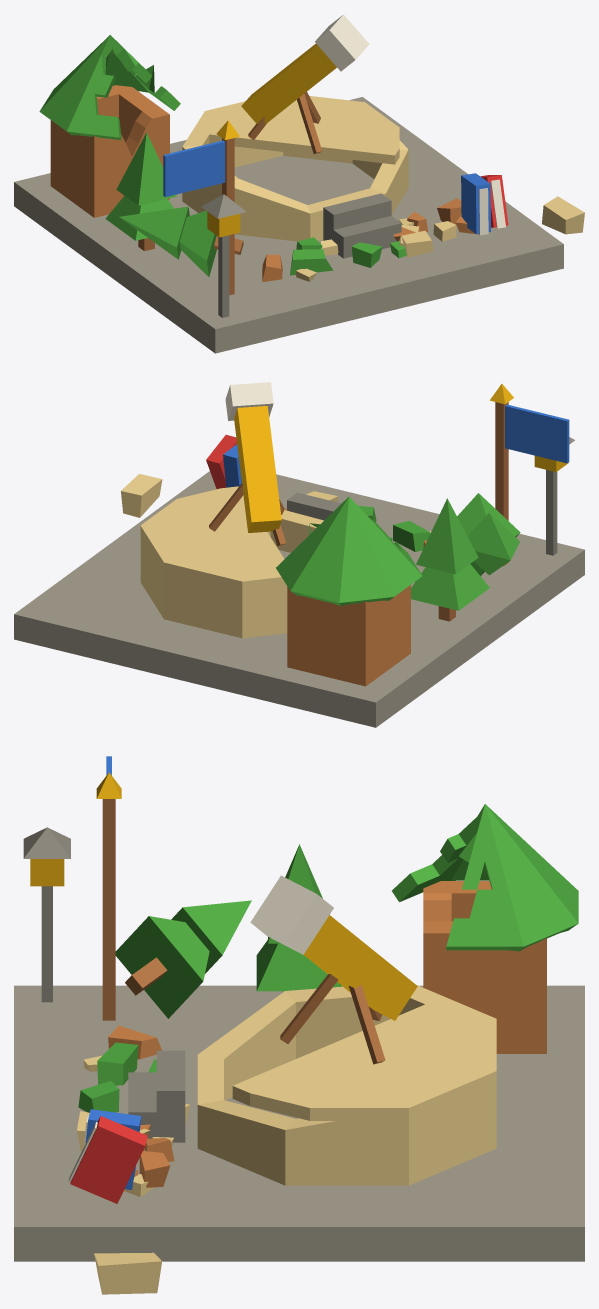
File: observatory_t1_v2_dmg1.glb
3 views of the same model, one above another, from view 1: azimuth 30°, elevation 25°; view 2: azimuth 150°, elevation 25°; view 3: azimuth 270°, elevation 25° (orthographic). The views are drawn at different scales.
Parts seen in each view (by area): view 1: observatory_t1_v2_dmg1; view 2: observatory_t1_v2_dmg1; view 3: observatory_t1_v2_dmg1.
Boxes of the visible parts, <box> form: observatory_t1_v2_dmg1: <box>14,14,584,353</box>; observatory_t1_v2_dmg1: <box>14,382,584,727</box>; observatory_t1_v2_dmg1: <box>14,756,584,1294</box>.
Size of the model in its own units: 0.7175 by 0.3351 by 0.6.
1 material, 1 textured.
